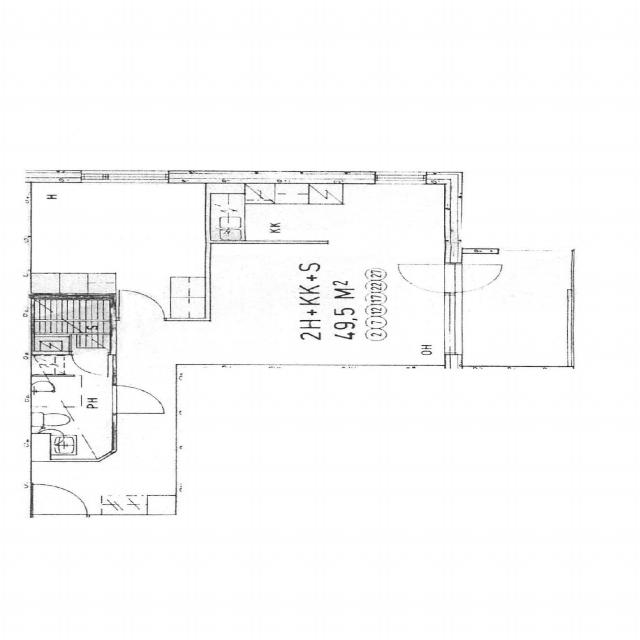door: (33, 484, 87, 520), (396, 264, 462, 292), (444, 264, 509, 292), (112, 386, 163, 413), (119, 291, 164, 321), (72, 351, 108, 376)
